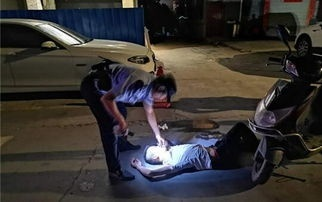falling: (126, 119, 268, 185)
